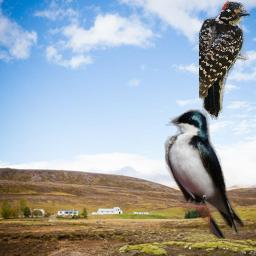Swallow: (164, 109, 244, 239)
Woodpecker: (199, 0, 250, 120)
